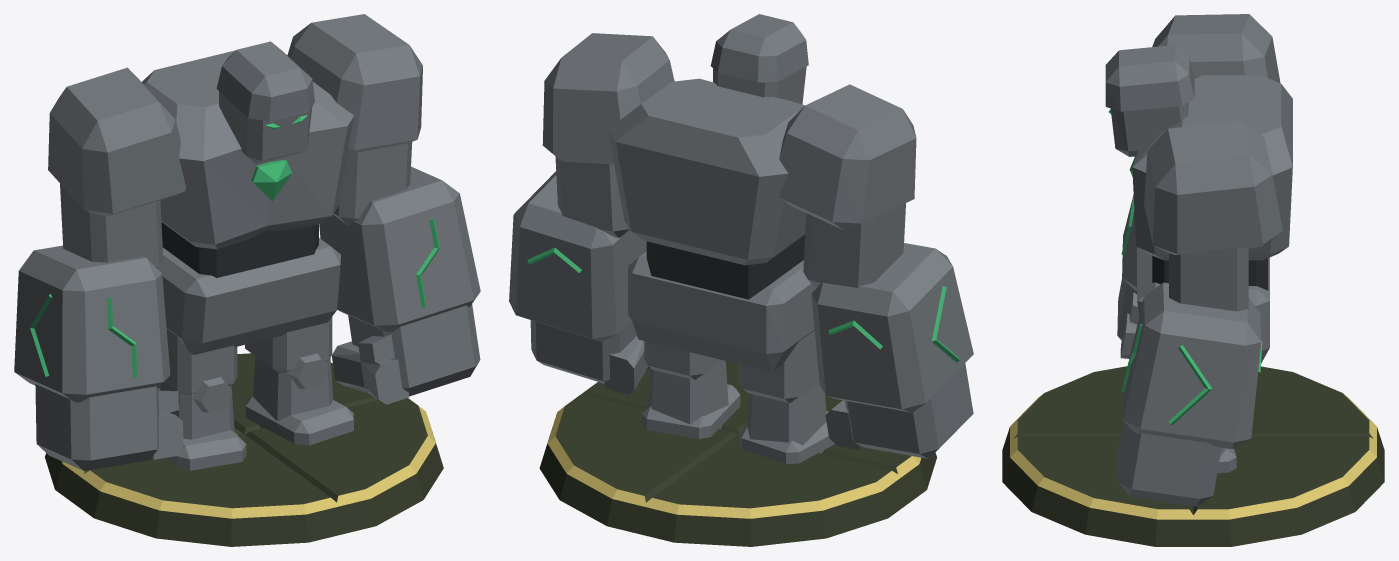
File: stone-golem-miniature-6a84b6.glb
3 renders of one model, left to right at view 1: azimuth 30°, elevation 25°; view 2: azimuth 150°, elevation 25°; view 3: azimuth 270°, elevation 25°, orthographic. The views are drawn at different scales.
Visible parts, largest first — view 1: golem, gold, runes; view 2: golem, gold, runes; view 3: golem, gold, runes.
Boxes of the visible parts, bbox=[...] form: golem: bbox=[14, 14, 480, 546]; gold: bbox=[62, 406, 435, 518]; runes: bbox=[30, 115, 439, 377]; golem: bbox=[509, 14, 973, 546]; gold: bbox=[547, 406, 921, 518]; runes: bbox=[527, 247, 959, 362]; golem: bbox=[1002, 14, 1384, 546]; gold: bbox=[1010, 393, 1376, 519]; runes: bbox=[1108, 109, 1262, 425].
Size of the model in its own units: 0.062 by 0.0596 by 0.05.
